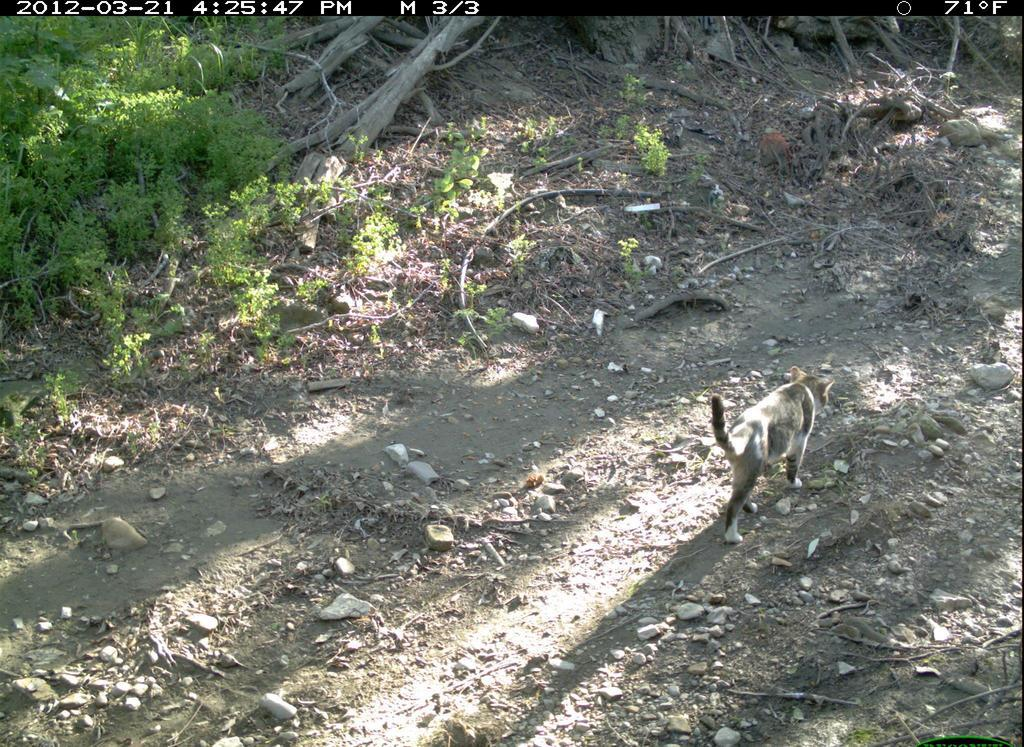cat: (700, 359, 841, 549)
